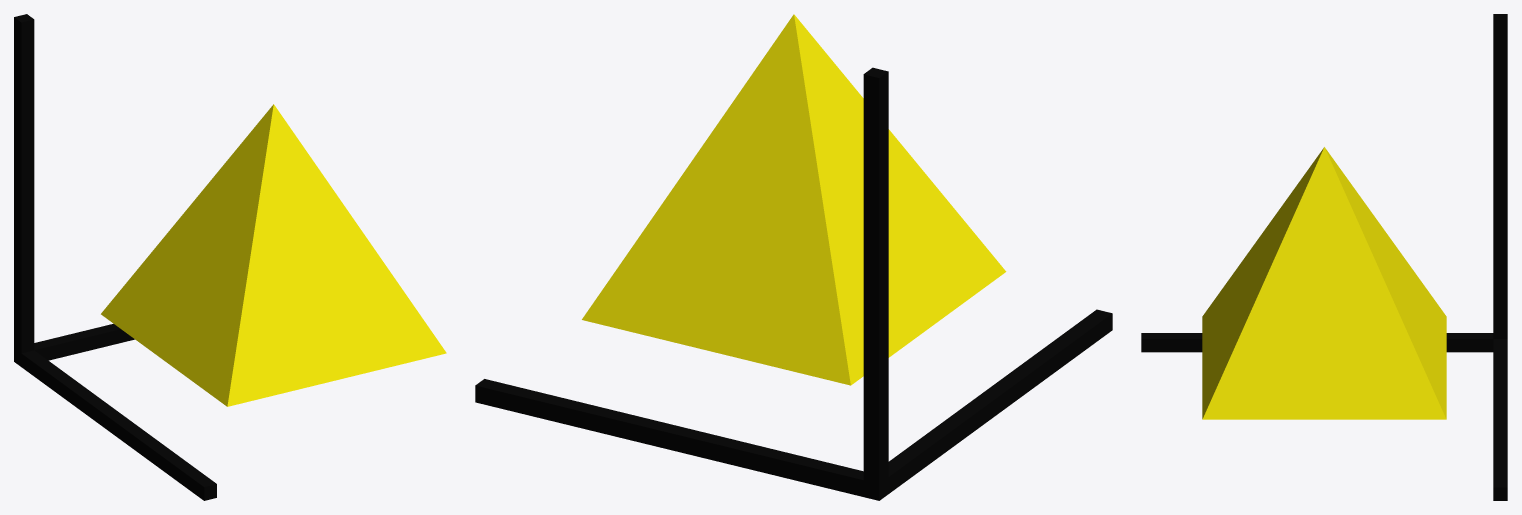
The model's file is piramide.gltf.
The picture shows the model from 3 angles, left to right: view 1: azimuth 30°, elevation 25°; view 2: azimuth 150°, elevation 25°; view 3: azimuth 270°, elevation 25°; orthographic projection. The views are drawn at different scales.
Size of the model in its own units: 0.06 by 0.06 by 0.06.
